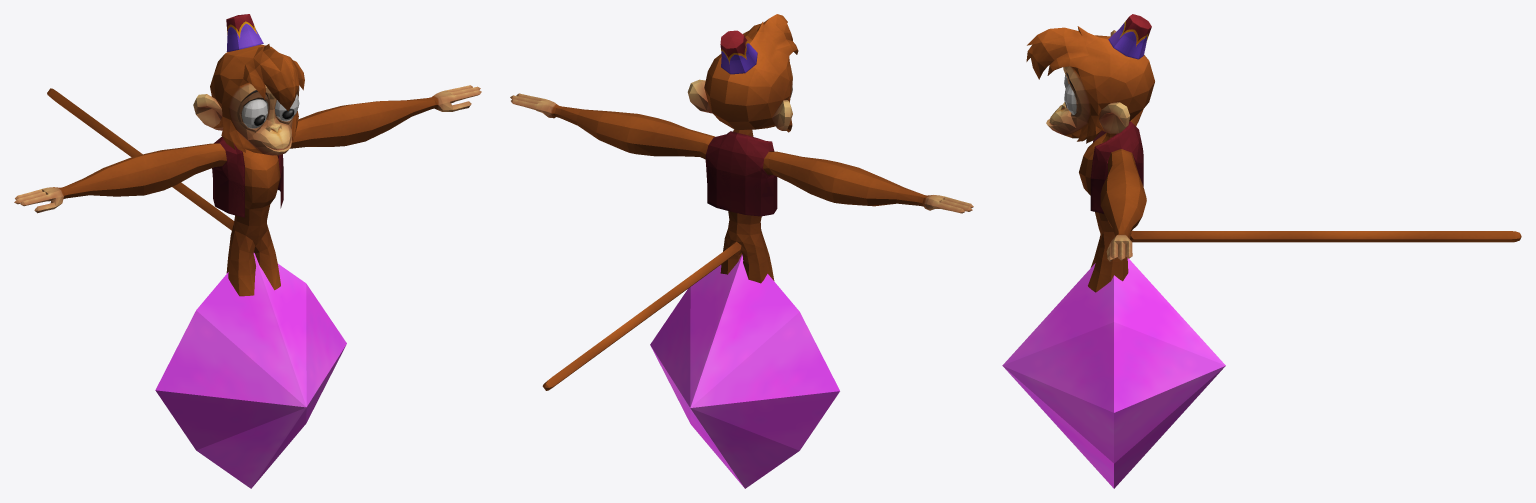
The model's file is Abu.obj.
The picture shows the model from 3 angles, left to right: view 1: azimuth 30°, elevation 25°; view 2: azimuth 150°, elevation 25°; view 3: azimuth 270°, elevation 25°; orthographic projection.
Parts seen in each view (by area): view 1: rdmobj01.001, rdmobj00, rdmobj01; view 2: rdmobj00, rdmobj01.001, rdmobj01; view 3: rdmobj01.001, rdmobj00, rdmobj01.
Part boxes in pixels (left/top/right/bottom): rdmobj01.001: left=155, top=253, right=346, bottom=488; rdmobj00: left=47, top=14, right=438, bottom=296; rdmobj01: left=14, top=82, right=481, bottom=213; rdmobj00: left=542, top=14, right=928, bottom=390; rdmobj01.001: left=650, top=254, right=839, bottom=488; rdmobj01: left=510, top=64, right=973, bottom=213; rdmobj01.001: left=1002, top=258, right=1225, bottom=488; rdmobj00: left=1026, top=14, right=1521, bottom=292; rdmobj01: left=1046, top=30, right=1132, bottom=261.
Bounding box in the file's own units: 82.9 × 79.38 × 79.06.
Materials: 2 (2 with a texture image).
